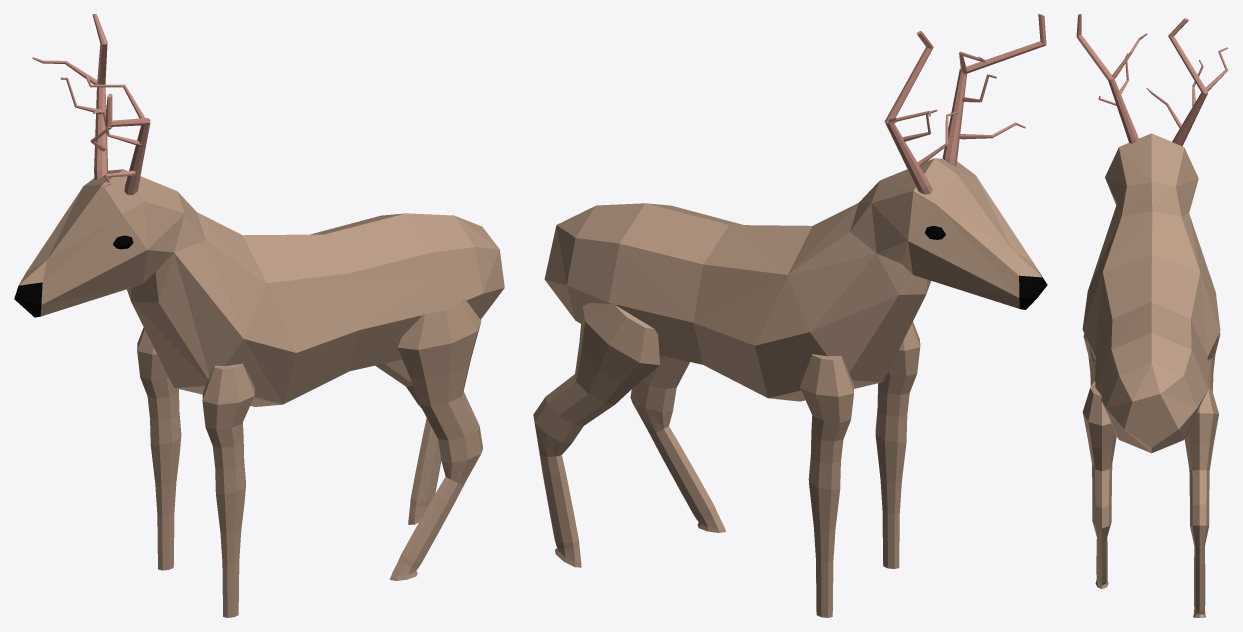
The model's file is Deer.fbx.
3 views of the same model, side by side, from view 1: azimuth 30°, elevation 25°; view 2: azimuth 150°, elevation 25°; view 3: azimuth 270°, elevation 25° (orthographic). The views are drawn at different scales.
Parts seen in each view (by area): view 1: Body, Hind Legs, Front Legs, Front Legs.001, Hind Legs.001, Cylinder, Cylinder.004; view 2: Body, Hind Legs.001, Front Legs.001, Front Legs, Hind Legs, Cylinder.004, Cylinder; view 3: Body, Hind Legs.001, Hind Legs, Cylinder.004, Cylinder, Front Legs.001, Front Legs.
Boxes of the visible parts, x1,y1,x2,y2 form: Body: (14,169,504,406); Hind Legs: (389,297,482,580); Front Legs: (202,363,254,617); Front Legs.001: (137,327,181,570); Hind Legs.001: (375,359,441,524); Cylinder: (92,14,108,179); Cylinder.004: (105,93,150,194); Body: (544,158,1047,401); Hind Legs.001: (533,303,659,567); Front Legs.001: (799,354,853,617); Front Legs: (875,322,920,568); Hind Legs: (630,355,725,532); Cylinder.004: (942,14,1046,165); Cylinder: (884,31,933,194); Body: (1082,133,1220,453); Hind Legs.001: (1184,387,1218,617); Hind Legs: (1082,381,1116,588); Cylinder.004: (1076,14,1138,143); Cylinder: (1168,18,1208,146); Front Legs.001: (1207,332,1220,391); Front Legs: (1083,334,1095,386).
Size of the model in its own units: 633 by 768 by 224.
